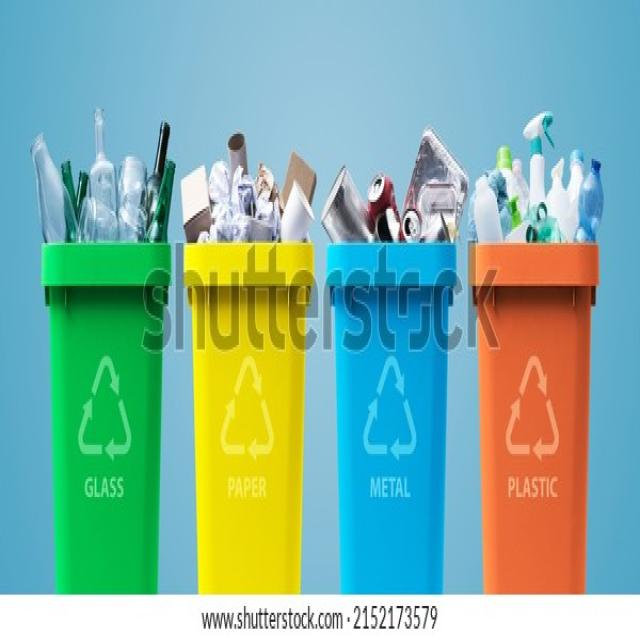cardboard: (180, 175, 207, 220), (284, 157, 317, 193)
glass: (21, 109, 174, 243)
metal: (327, 166, 418, 245)
paper: (214, 170, 276, 236)
plastic: (485, 138, 604, 250), (426, 138, 463, 240), (291, 193, 315, 252)
